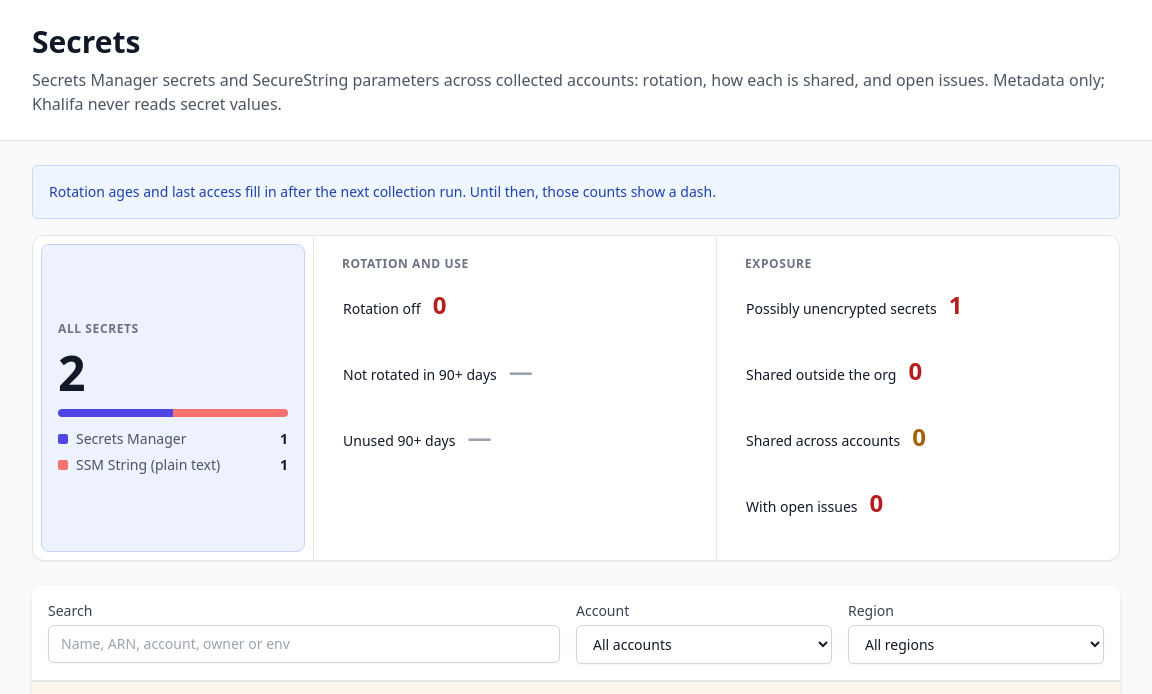
SecretsPage › shows plain-text parameters with their own summary row, and finds secrets by owner
Click the button "Possibly unencrypted secrets 1" at (918, 314), box [733, 282, 1103, 346]
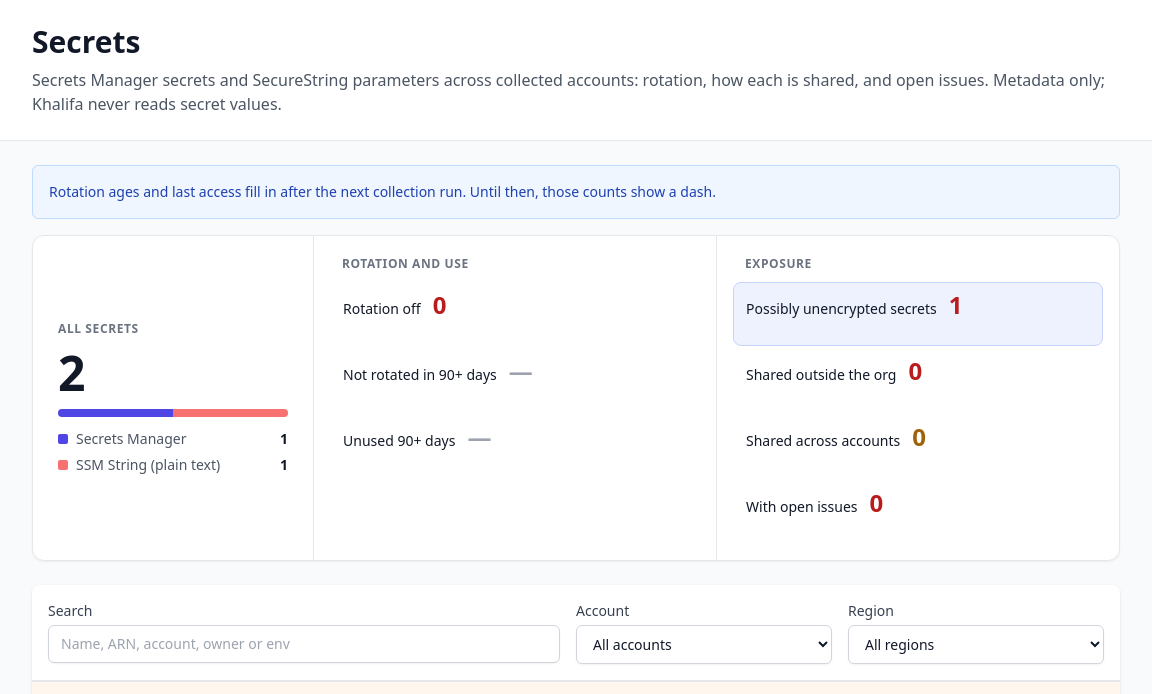
Click the button "Possibly unencrypted secrets 1" at (918, 314), box [733, 282, 1103, 346]
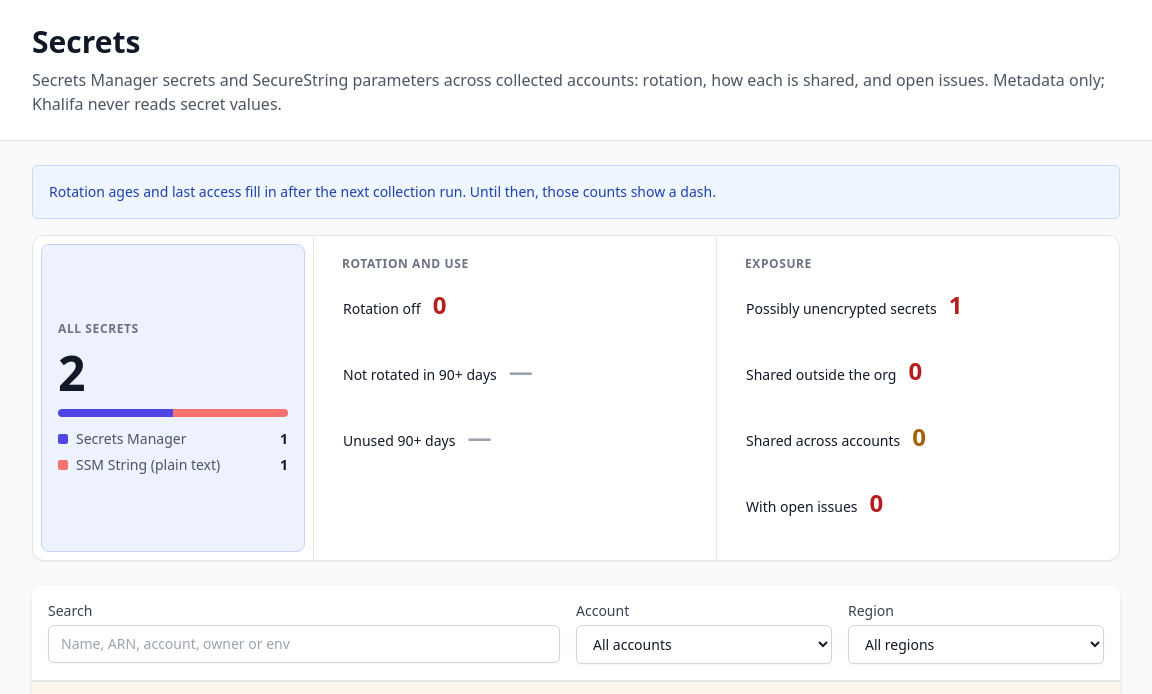
Type "data-platform" into the search field labelled "Search" at (304, 644), box [48, 625, 560, 663]
(page scrolled)
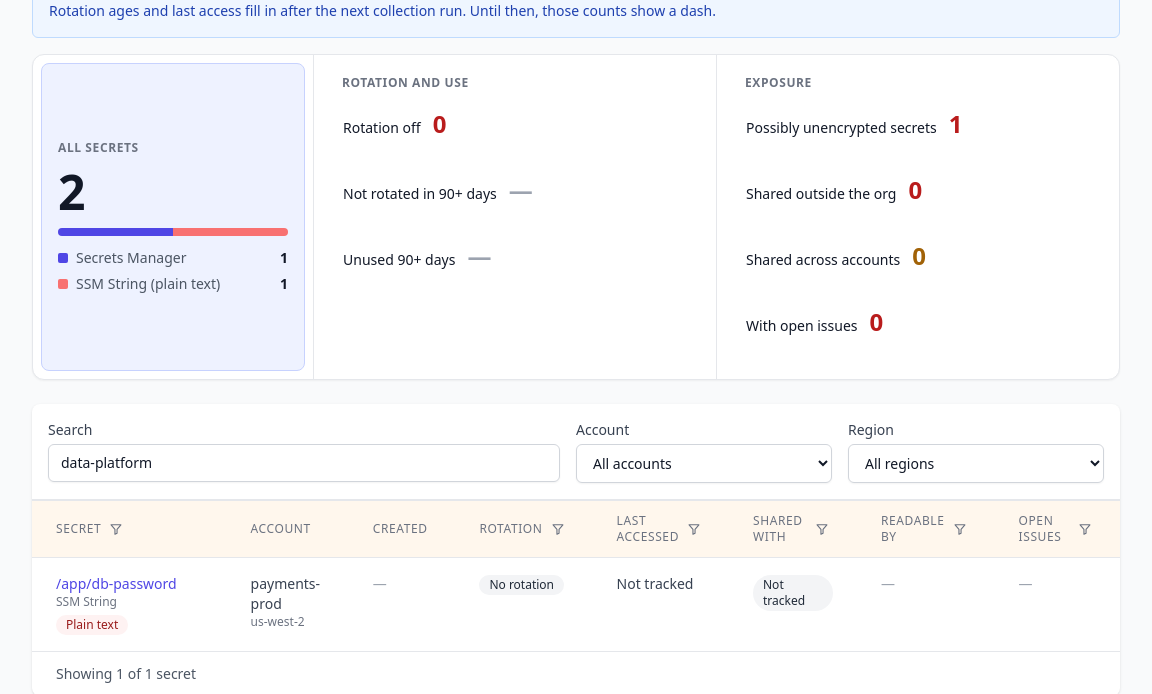
Expected: the link "/app/db-password" is shown, [56, 574, 177, 593]
Result: the text "Showing 1 of 1 secret" is shown at [56, 664, 196, 684]
